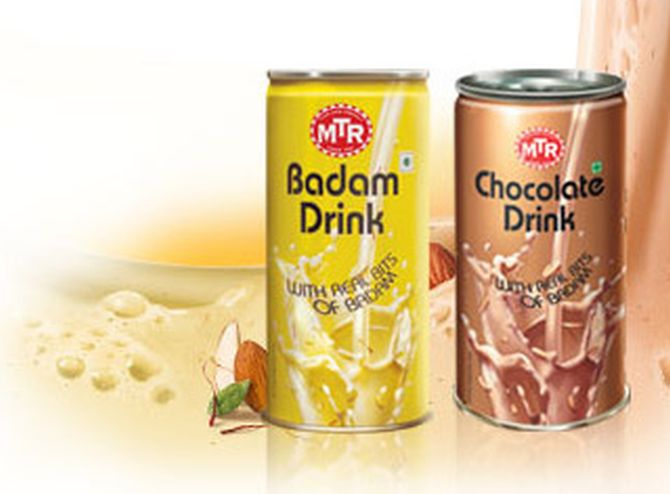VEG: (400, 151, 415, 173), (590, 159, 604, 173)
